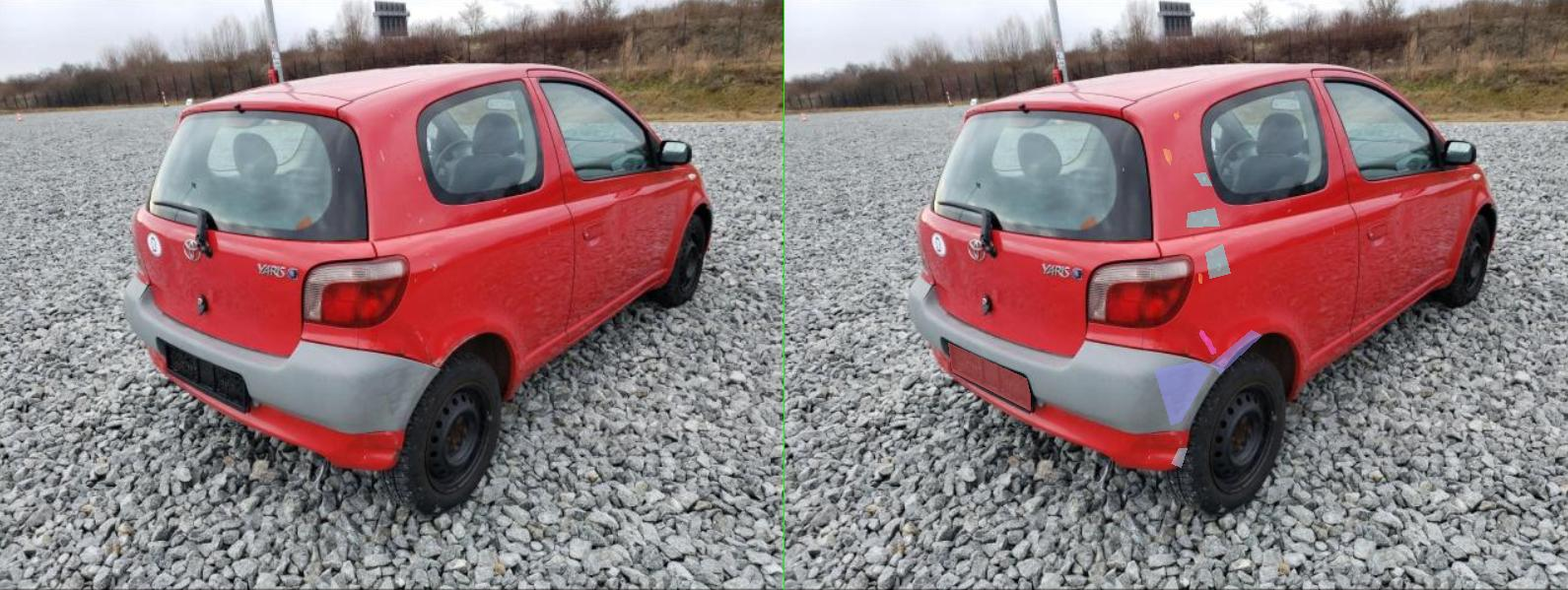Corrosion: (773, 448, 805, 467)
Dent: (830, 330, 862, 354)
Flaking: (842, 244, 891, 278), (805, 208, 870, 227), (819, 172, 854, 185)
Missing part: (327, 343, 491, 410)
Paint chip: (757, 149, 773, 164), (866, 263, 876, 272), (838, 217, 848, 225), (779, 112, 789, 119), (832, 176, 844, 181), (828, 273, 834, 283), (850, 253, 862, 257), (815, 213, 822, 216)
Scratch: (740, 361, 852, 425), (852, 330, 955, 373)
